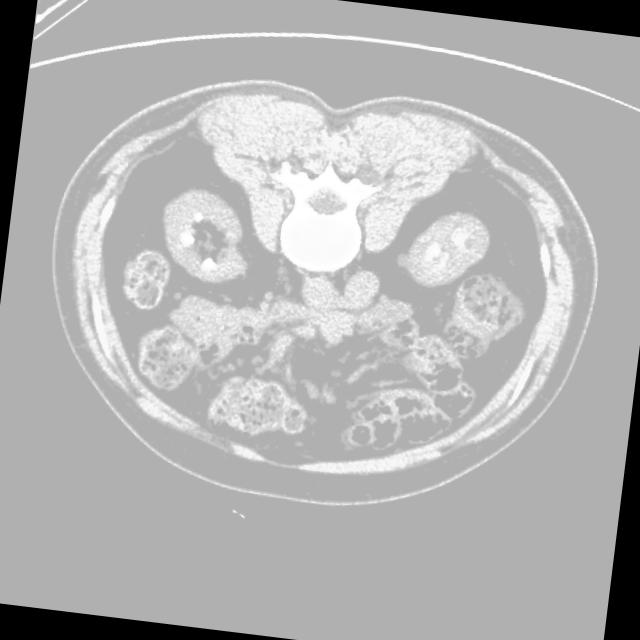STONE: (130, 133, 525, 384)
